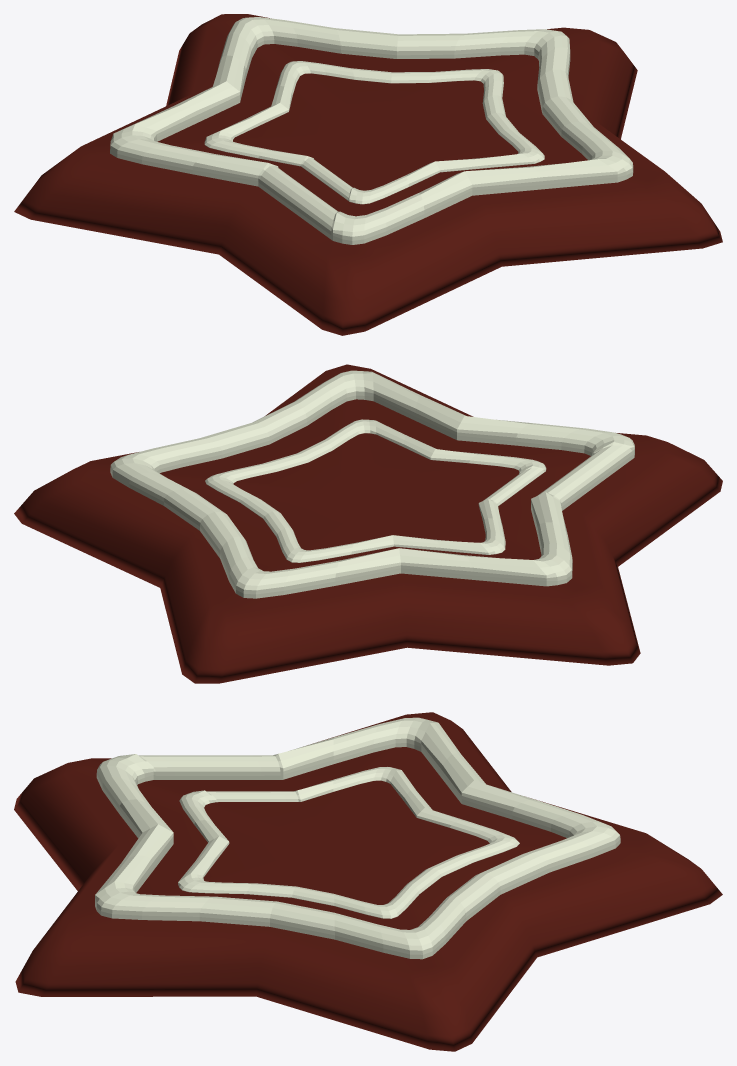
Rendered from cookie03.fbx.
3 renders of one model, top to bottom at view 1: azimuth 30°, elevation 25°; view 2: azimuth 150°, elevation 25°; view 3: azimuth 270°, elevation 25°, orthographic. The views are drawn at different scales.
Visible parts, largest first — view 1: cookie03; view 2: cookie03; view 3: cookie03.
Part boxes in pixels (x1=…): cookie03: x1=14, y1=14, x2=722, y2=335; cookie03: x1=14, y1=364, x2=722, y2=683; cookie03: x1=14, y1=712, x2=722, y2=1051.
Size of the model in its own units: 57.4 by 6.09 by 54.87.
